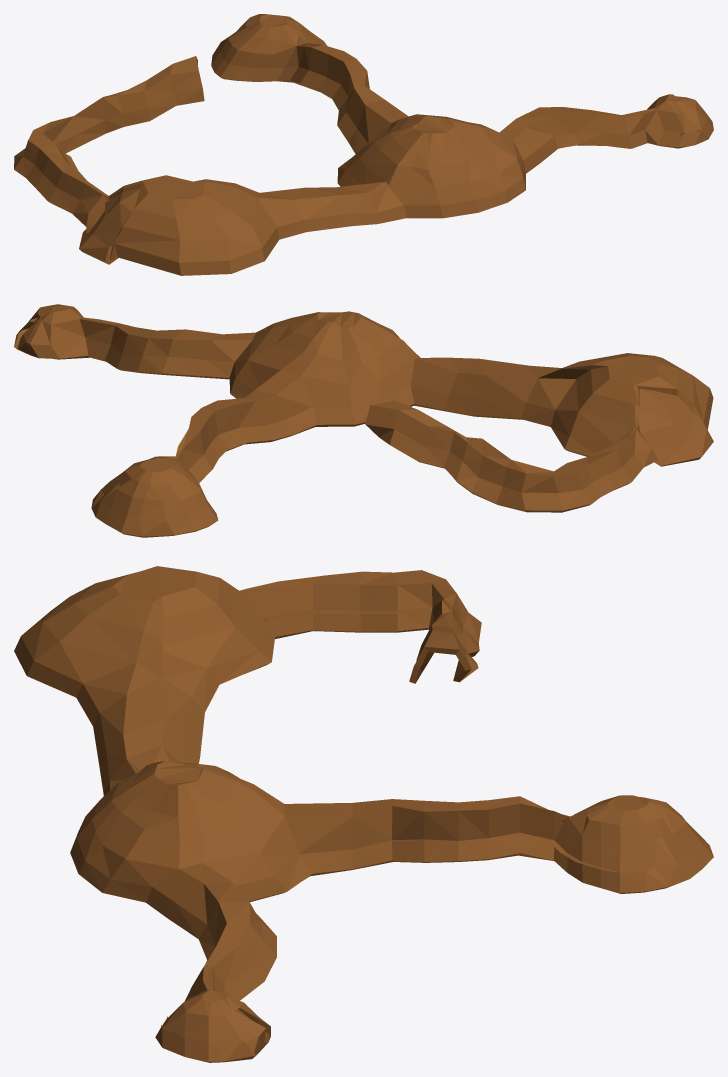
3 views of the same model, one above another, from view 1: azimuth 30°, elevation 25°; view 2: azimuth 150°, elevation 25°; view 3: azimuth 270°, elevation 25° (orthographic). The views are drawn at different scales.
Parts seen in each view (by area): view 1: Plane.012; view 2: Plane.012; view 3: Plane.012.
Part boxes in pixels (left/top/right/bottom): Plane.012: left=14, top=14, right=713, bottom=275; Plane.012: left=14, top=304, right=713, bottom=537; Plane.012: left=14, top=566, right=713, bottom=1062.
Size of the model in its own units: 9777 by 1536 by 6912.
